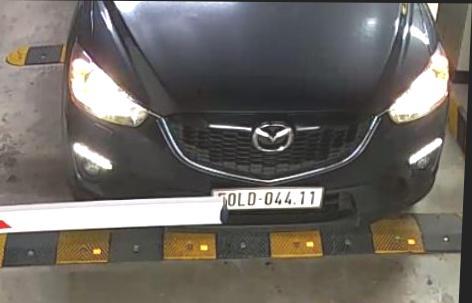License_Plate: (213, 183, 325, 212)
